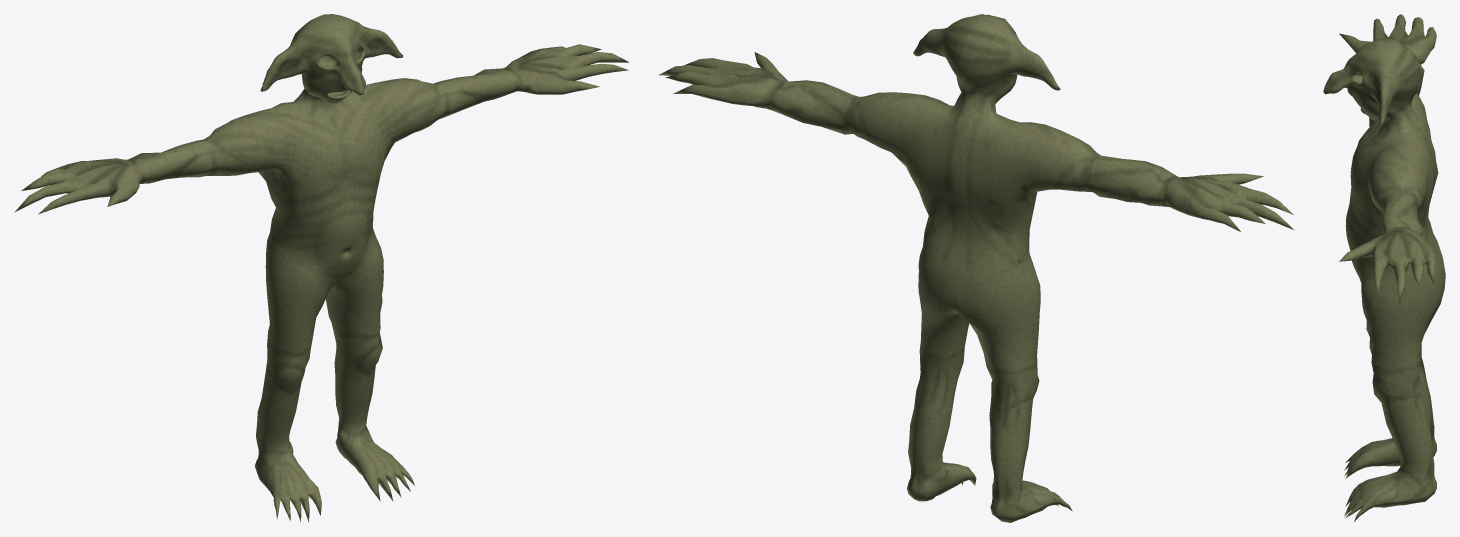
Rendered from goblin2.fbx.
The picture shows the model from 3 angles, left to right: view 1: azimuth 30°, elevation 25°; view 2: azimuth 150°, elevation 25°; view 3: azimuth 270°, elevation 25°; orthographic projection. The views are drawn at different scales.
Parts seen in each view (by area): view 1: polySurface1; view 2: polySurface1; view 3: polySurface1.
Part boxes in pixels (box(x1,y1,x2,y2)): polySurface1: box(14, 14, 628, 522); polySurface1: box(658, 14, 1294, 522); polySurface1: box(1323, 14, 1445, 521).
Bounding box in the file's own units: 23.63 × 17.53 × 4.3.
